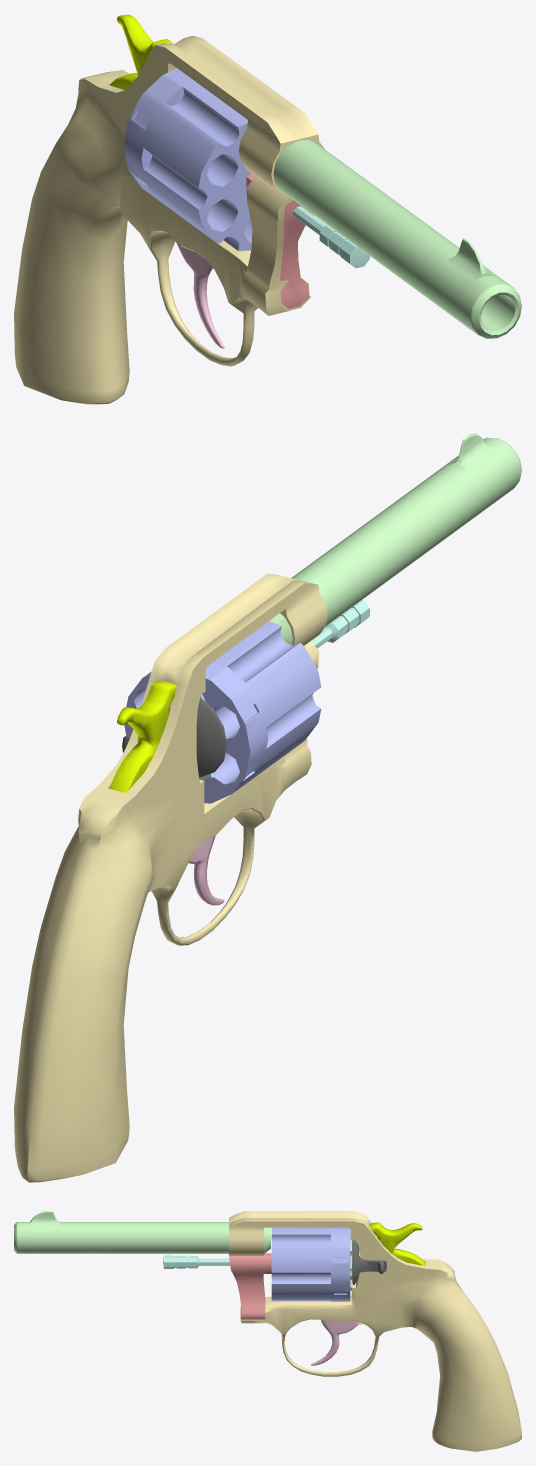
The model's file is Colt_Revolver_2.fbx.
The picture shows the model from 3 angles, top to bottom: view 1: azimuth 30°, elevation 25°; view 2: azimuth 150°, elevation 25°; view 3: azimuth 270°, elevation 25°; orthographic projection. The views are drawn at different scales.
Parts seen in each view (by area): view 1: Frame, Barrel, Wheel, WheelHinge, Hammer1, Ejector, Trigger1; view 2: Frame, Barrel, Wheel, Hammer1, Wheel_Slide1, Ejector, Trigger1; view 3: Frame, Barrel, Wheel, WheelHinge, Hammer1, Ejector, Trigger1, Wheel_Slide1.
Boxes of the visible parts, x1,y1,x2,y2 form: Frame: (14,36,325,404); Barrel: (273,140,521,338); Wheel: (123,68,252,250); WheelHinge: (246,173,313,308); Hammer1: (110,14,173,89); Ejector: (293,206,369,268); Trigger1: (176,242,224,348); Frame: (14,573,327,1182); Barrel: (269,433,521,644); Wheel: (124,621,321,803); Hammer1: (109,680,176,792); Wheel_Slide1: (122,697,226,777); Ejector: (199,600,369,781); Trigger1: (188,835,224,905); Frame: (229,1211,521,1451); Barrel: (14,1211,270,1253); Wheel: (271,1227,350,1301); WheelHinge: (229,1253,271,1319); Hammer1: (370,1222,425,1266); Ejector: (163,1234,352,1290); Trigger1: (311,1320,361,1365); Wheel_Slide1: (352,1240,386,1284).
Bounding box in the file's own units: 3.88 × 12.43 × 24.96.
